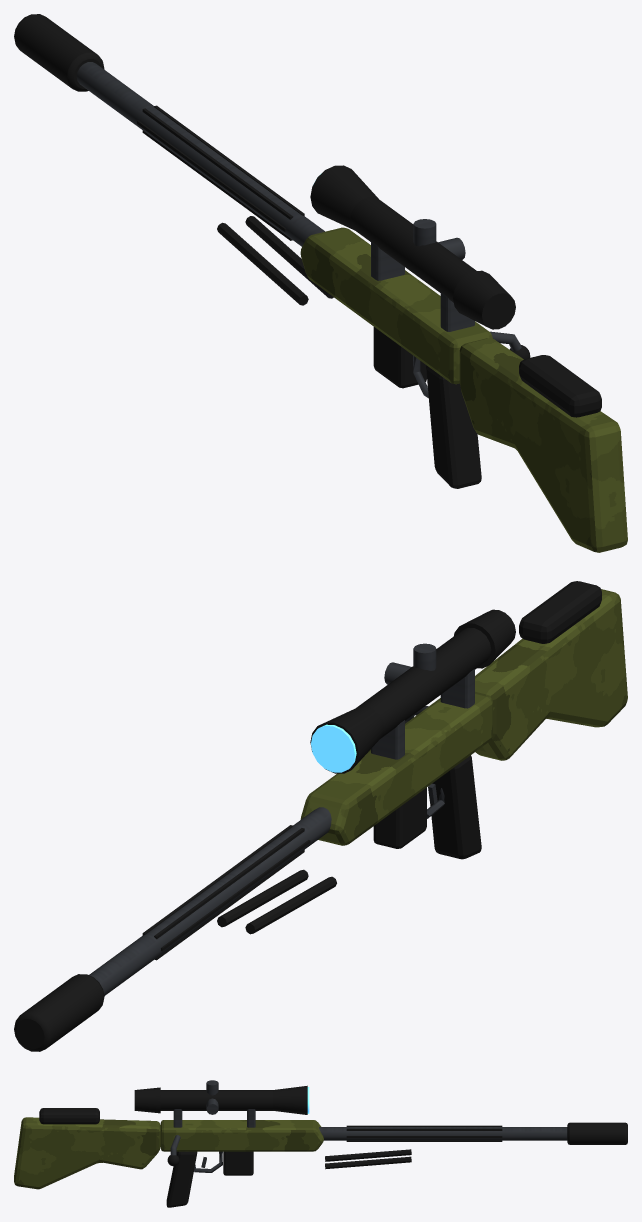
The model's file is weapon_longshot_sniper.glb.
3 renders of one model, top to bottom at view 1: azimuth 30°, elevation 25°; view 2: azimuth 150°, elevation 25°; view 3: azimuth 270°, elevation 25°, orthographic. The views are drawn at different scales.
Parts seen in each view (by area): view 1: weapon_longshot_sniper; view 2: weapon_longshot_sniper; view 3: weapon_longshot_sniper.
Part boxes in pixels (left/top/right/bottom): weapon_longshot_sniper: left=14, top=14, right=627, bottom=552; weapon_longshot_sniper: left=14, top=581, right=627, bottom=1051; weapon_longshot_sniper: left=14, top=1080, right=627, bottom=1207.
Bounding box in the file's own units: 0.128 × 0.3117 × 1.42.
Materials: 4 (2 with a texture image).
